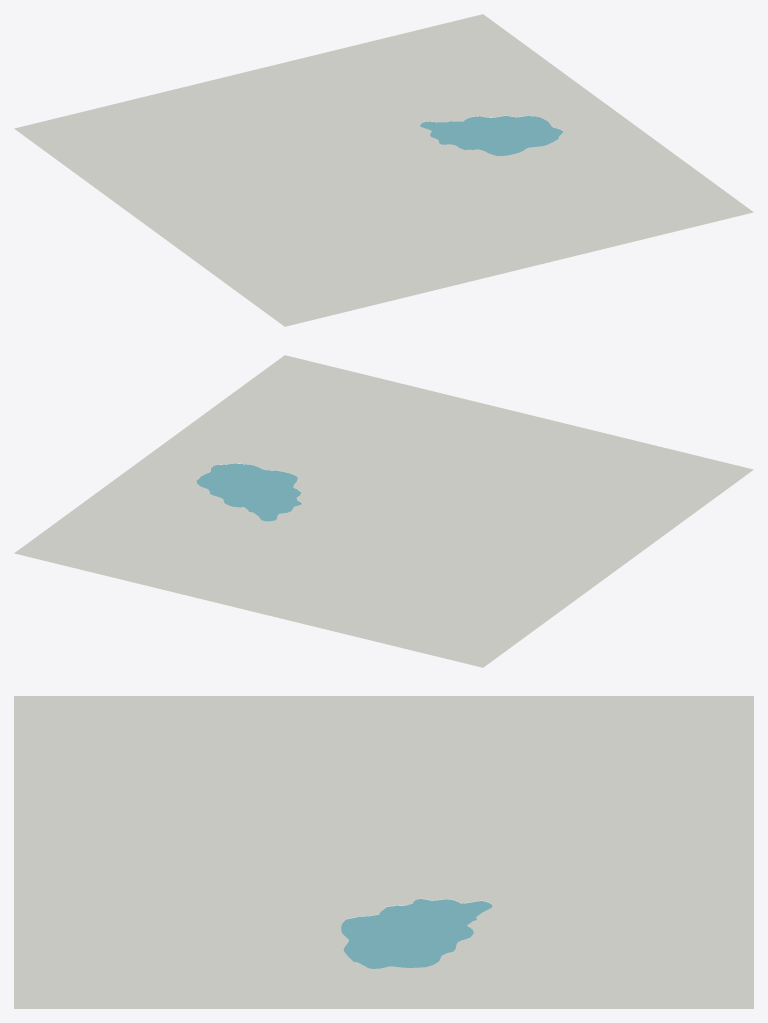
3 views of the same model, one above another, from view 1: azimuth 30°, elevation 25°; view 2: azimuth 150°, elevation 25°; view 3: azimuth 270°, elevation 25° (orthographic). The views are drawn at different scales.
Visible parts, largest first — view 1: city; view 2: city; view 3: city.
Part boxes in pixels (left/top/right/bottom): city: left=14, top=14, right=753, bottom=326; city: left=14, top=355, right=753, bottom=667; city: left=14, top=696, right=753, bottom=1008.
Bounding box in the file's own units: 500 × 0.18 × 500.
